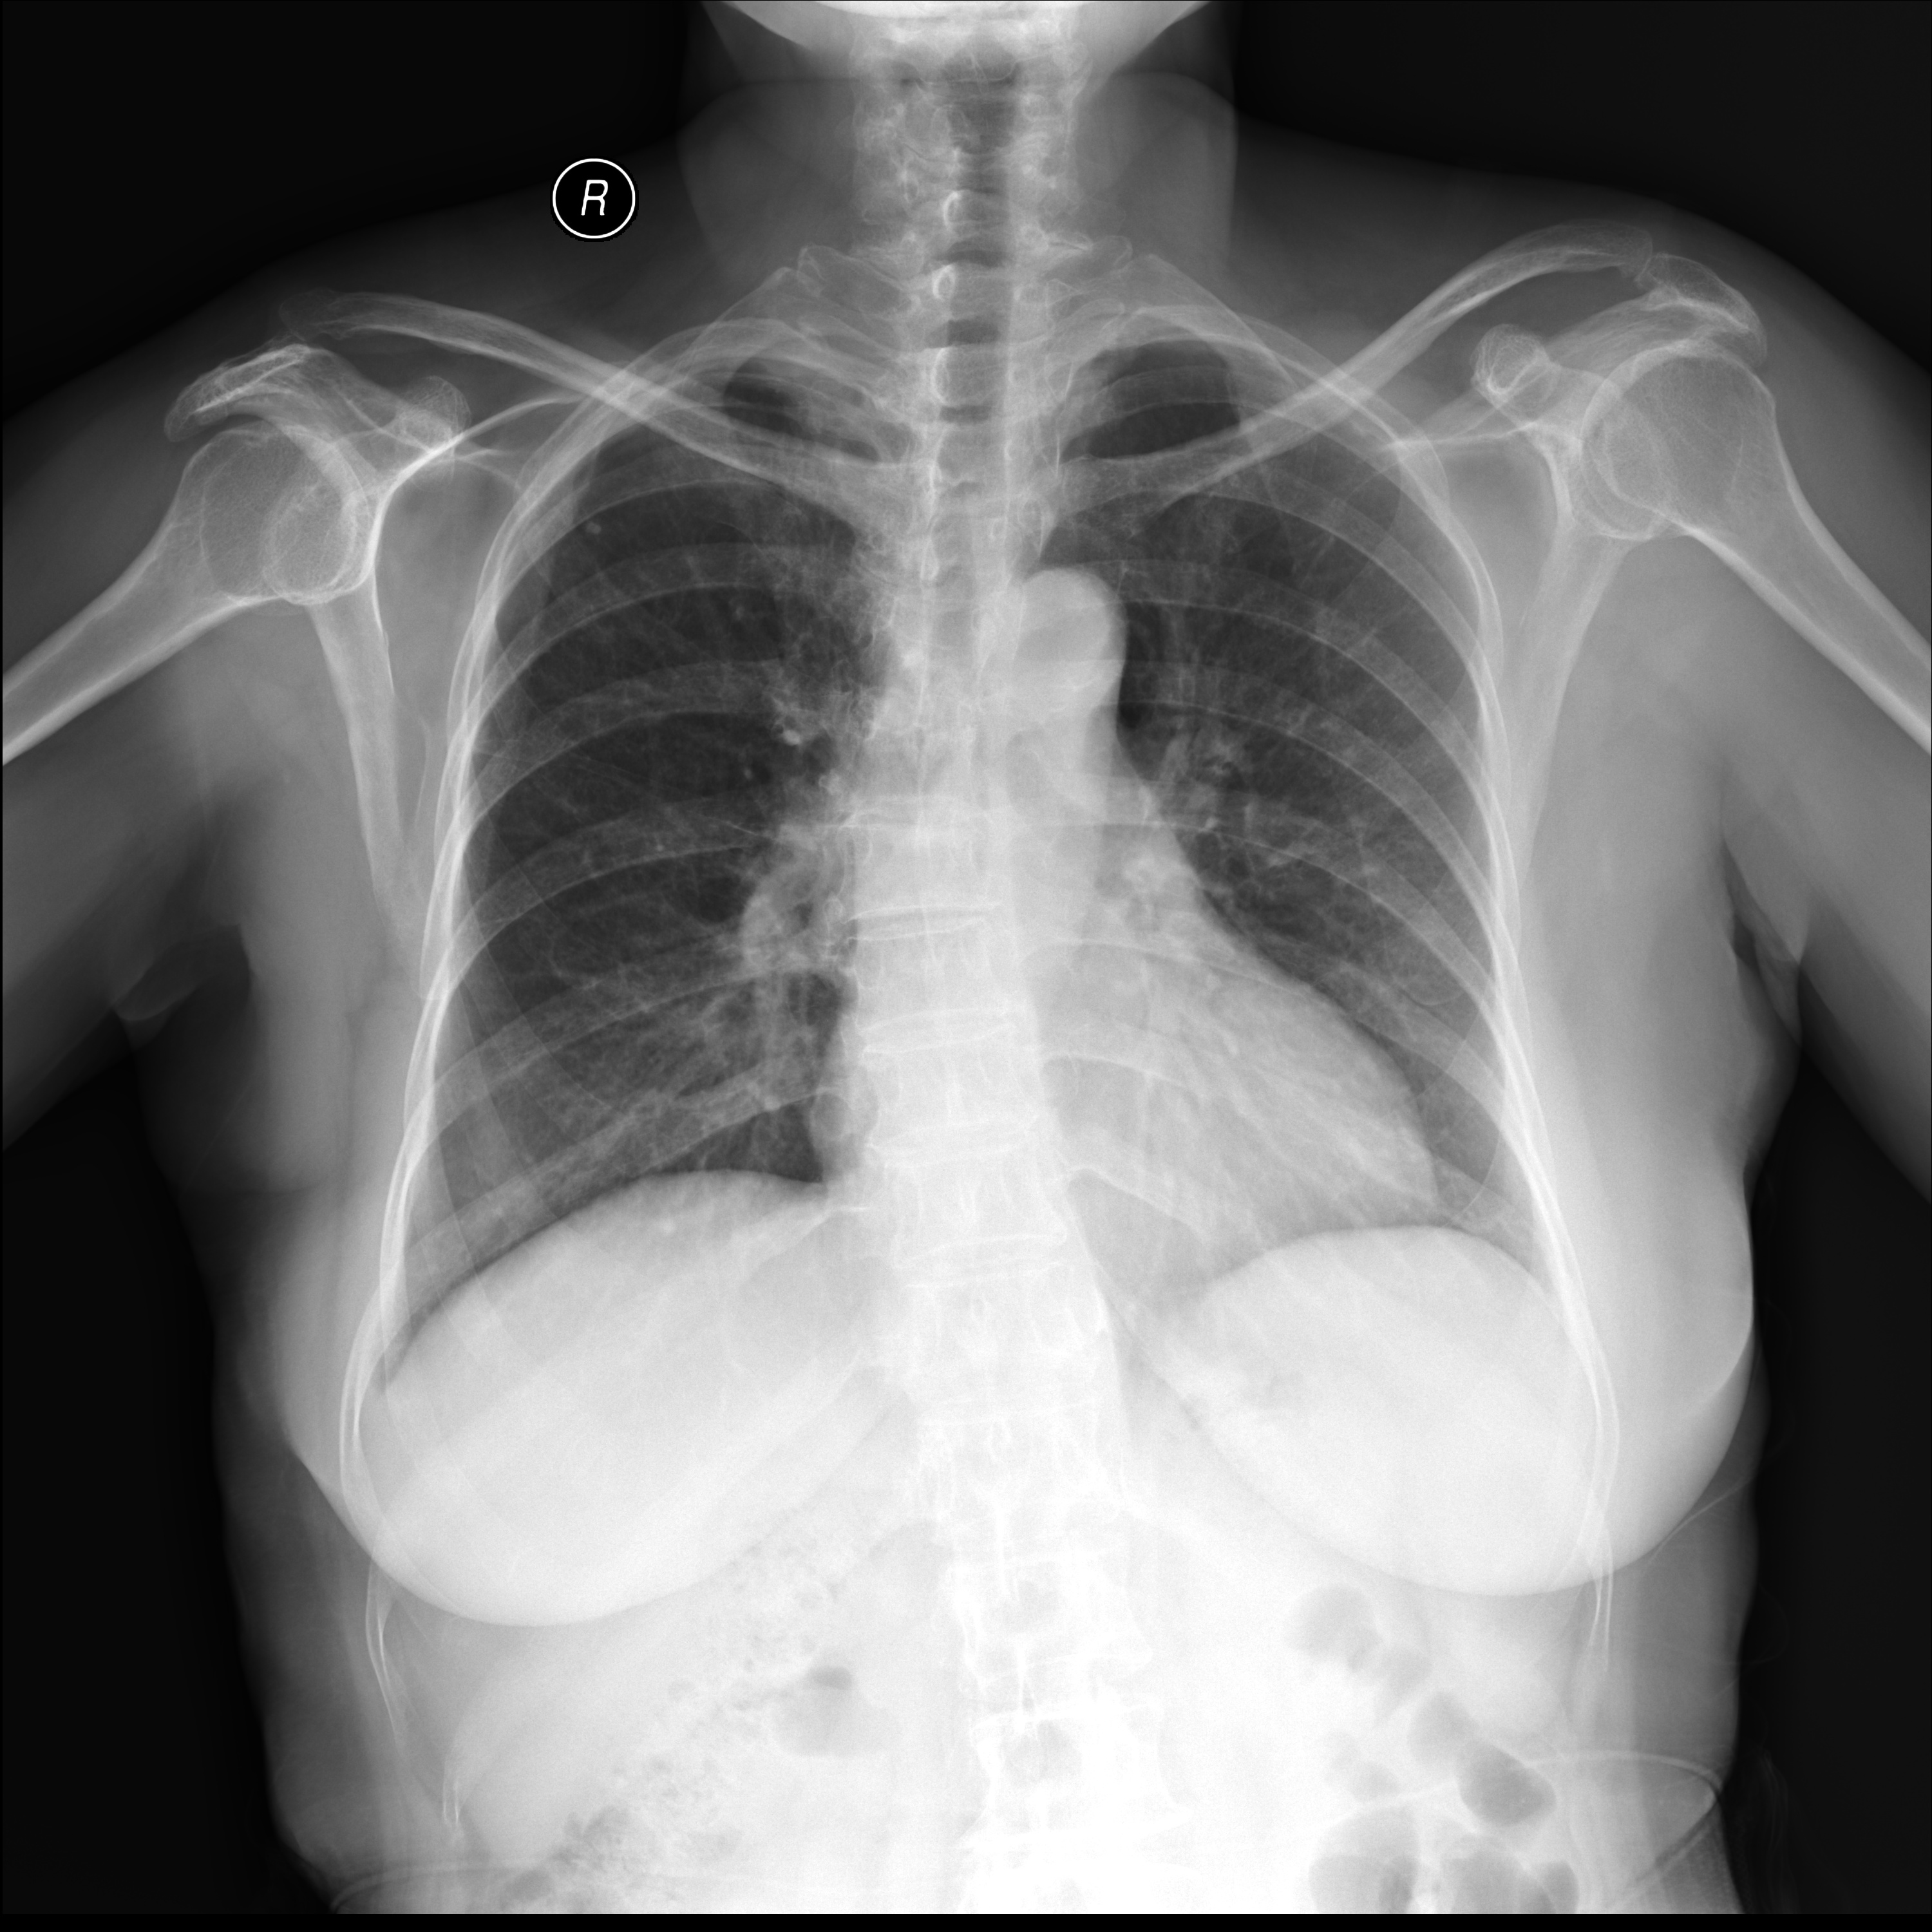nodule: (541, 488, 646, 564)
